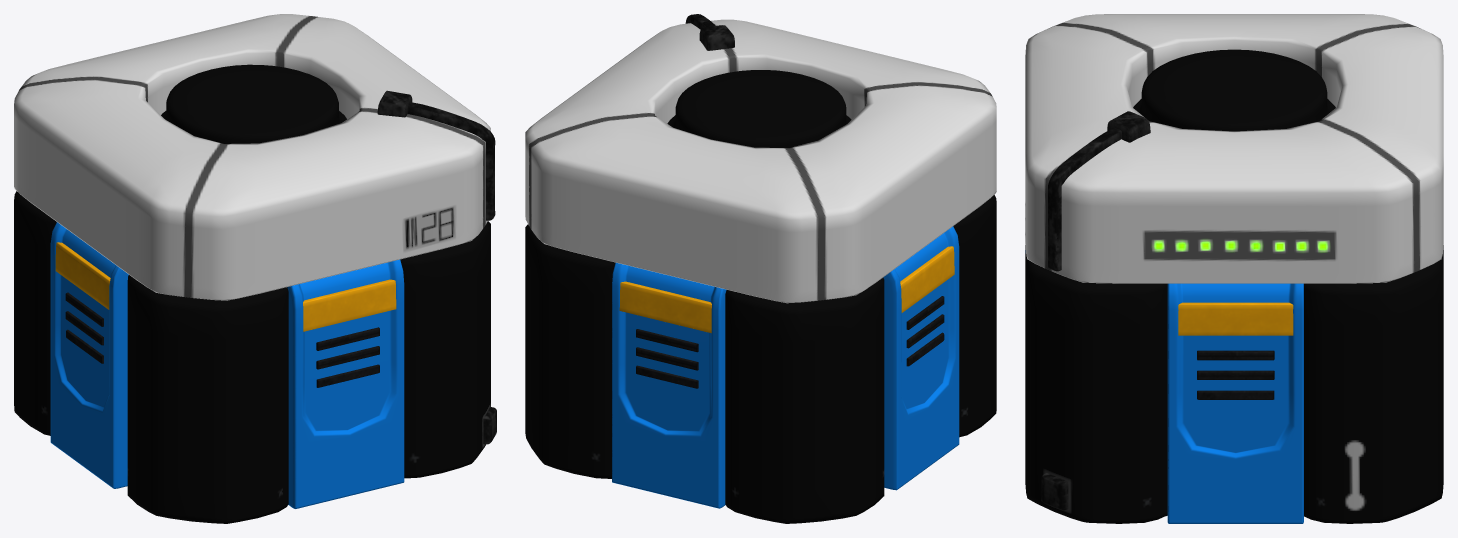
3 renders of one model, left to right at view 1: azimuth 30°, elevation 25°; view 2: azimuth 150°, elevation 25°; view 3: azimuth 270°, elevation 25°, orthographic. The views are drawn at different scales.
Visible parts, largest first — view 1: LootBox_GEO; view 2: LootBox_GEO; view 3: LootBox_GEO.
Boxes of the visible parts, box(x1,y1,x2,y2) form: LootBox_GEO: box(14, 14, 496, 523); LootBox_GEO: box(525, 14, 996, 523); LootBox_GEO: box(1025, 14, 1443, 523).
Bounding box in the file's own units: 100 × 97.72 × 100.
